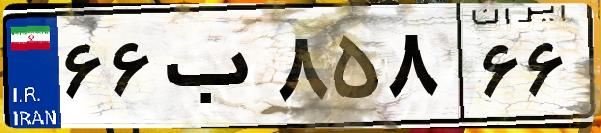5: (330, 28, 385, 110)
6: (57, 26, 110, 100), (475, 38, 525, 113), (525, 38, 570, 115), (110, 28, 158, 98)
8: (270, 28, 330, 110), (385, 28, 445, 110)
ب: (158, 20, 270, 120)
